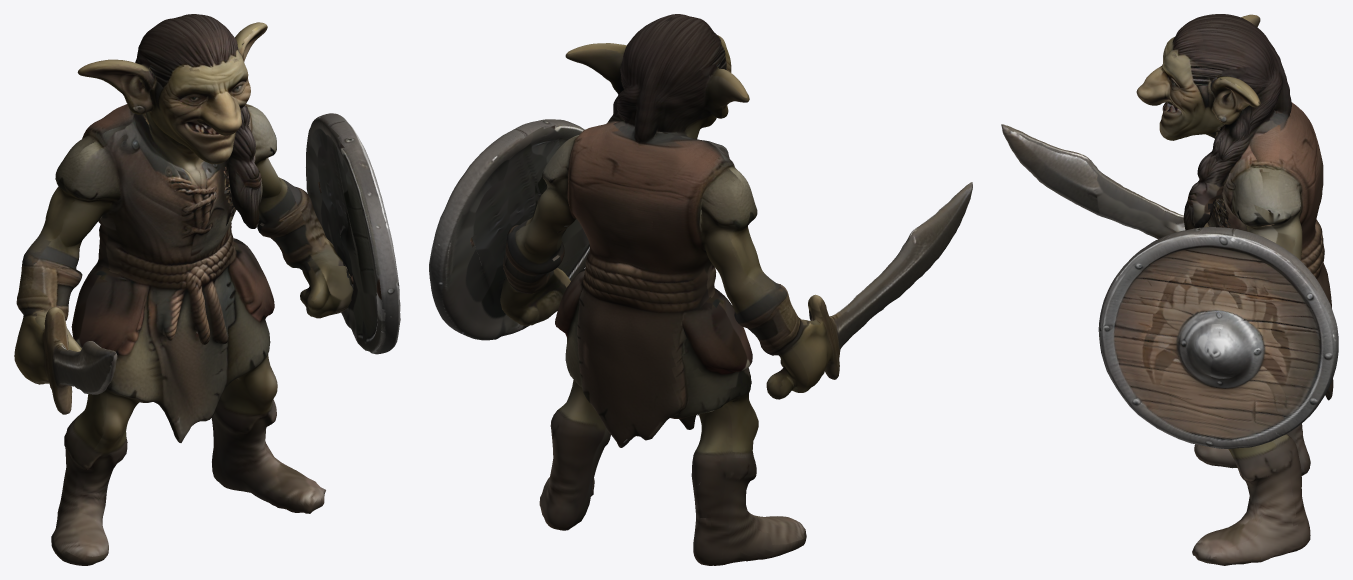
Rendered from goblin_warrior.glb.
The picture shows the model from 3 angles, left to right: view 1: azimuth 30°, elevation 25°; view 2: azimuth 150°, elevation 25°; view 3: azimuth 270°, elevation 25°; orthographic projection. The views are drawn at different scales.
Visible parts, largest first — view 1: tmp5ry826sh; view 2: tmp5ry826sh; view 3: tmp5ry826sh.
Boxes of the visible parts, bbox=[...] form: tmp5ry826sh: bbox=[14, 14, 400, 565]; tmp5ry826sh: bbox=[429, 14, 972, 565]; tmp5ry826sh: bbox=[1001, 14, 1338, 565].
Bounding box in the file's own units: 0.798 × 1 × 0.6243.
1 material, 1 textured.
